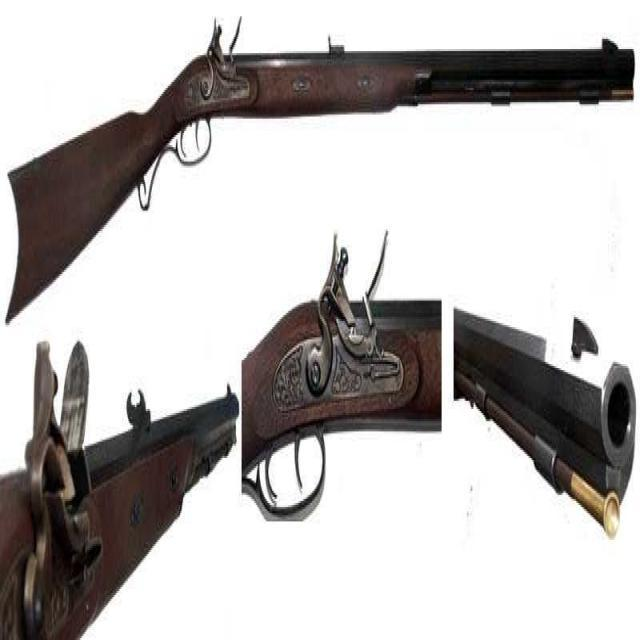weapon: (2, 24, 638, 358), (0, 229, 243, 640), (232, 272, 446, 540), (452, 264, 637, 552)
